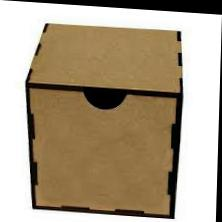cube: (23, 20, 185, 218)
